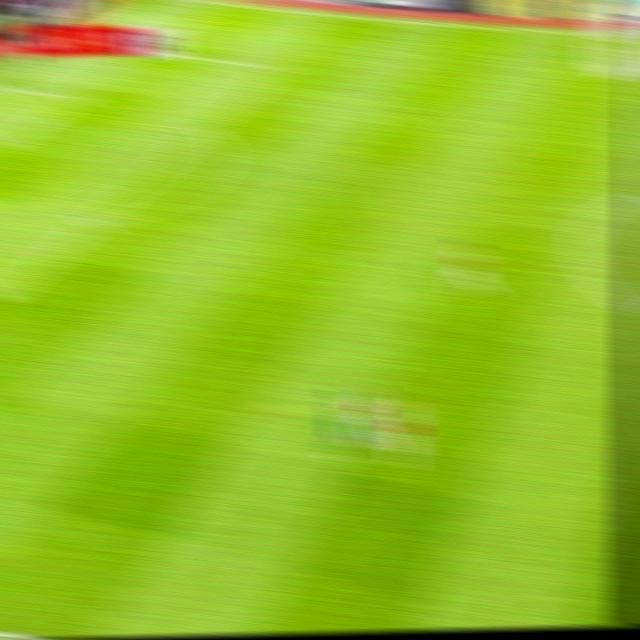bigarea_top_inner: (258, 56, 291, 78)
bottom_arc_area_intersection: (75, 209, 111, 235)
corner: (149, 0, 185, 3)
smallarea_top_inner: (56, 86, 92, 111)
smallarea_top_outter: (0, 73, 25, 97)
top_arc_area_intersection: (188, 116, 219, 138)
